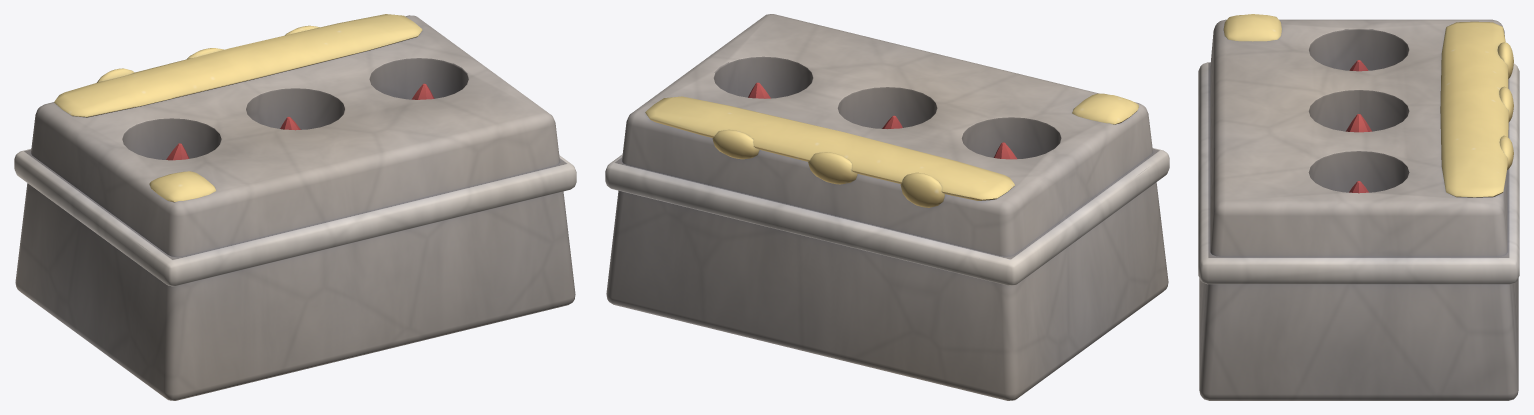
Rendered from CC_G06_CoralSpikeTrap.fbx.
3 views of the same model, side by side, from view 1: azimuth 30°, elevation 25°; view 2: azimuth 150°, elevation 25°; view 3: azimuth 270°, elevation 25° (orthographic).
Parts seen in each view (by area): view 1: Base; view 2: Base; view 3: Base, Spike_02.
Boxes of the visible parts, box(x1,y1,x2,y2) form: Base: box(14, 14, 576, 400); Base: box(605, 14, 1169, 400); Base: box(1198, 14, 1519, 400); Spike_02: box(1346, 114, 1371, 132).
Bounding box in the file's own units: 1.5 × 0.7105 × 1.
